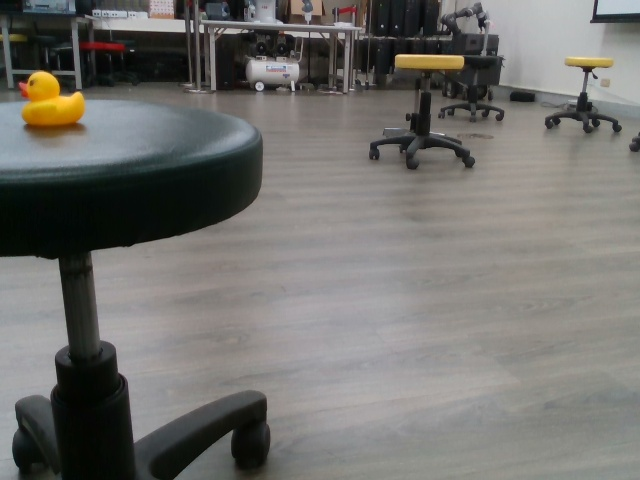duck: (14, 66, 90, 127)
